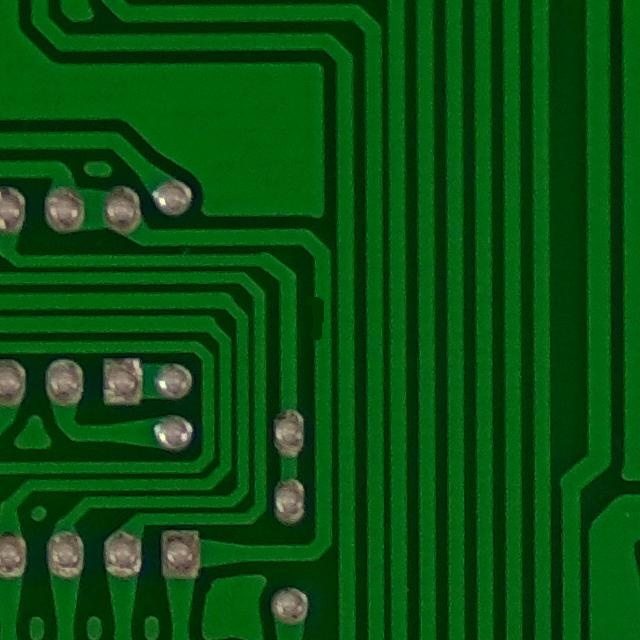mouse_bite: (304, 283, 336, 358)
